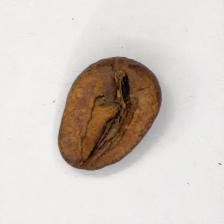NG: (67, 68, 139, 163)
